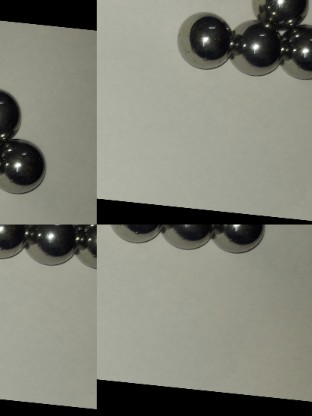ironball: (229, 20, 284, 78), (180, 11, 229, 71), (0, 140, 42, 198), (19, 223, 71, 265), (210, 224, 271, 255), (278, 26, 310, 85), (254, 0, 310, 31), (106, 222, 169, 248), (156, 222, 216, 249), (0, 90, 34, 137), (68, 225, 96, 268), (0, 224, 34, 254)
